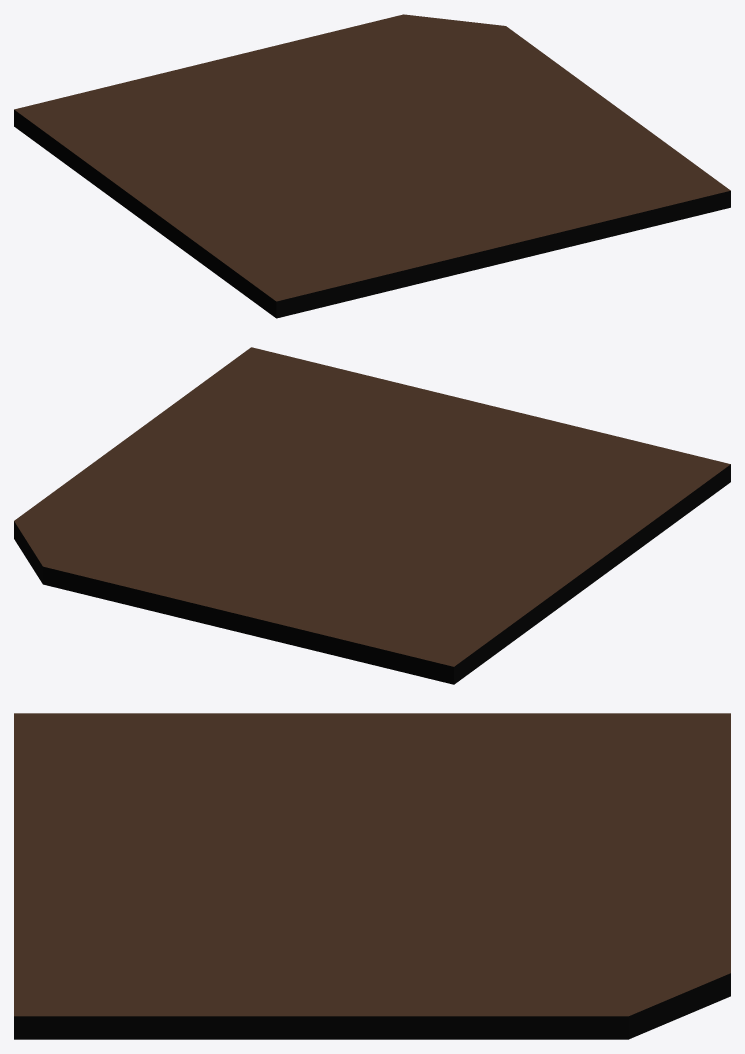
The model's file is Floor_Room_1.fbx.
3 views of the same model, one above another, from view 1: azimuth 30°, elevation 25°; view 2: azimuth 150°, elevation 25°; view 3: azimuth 270°, elevation 25° (orthographic). The views are drawn at different scales.
Parts seen in each view (by area): view 1: Floor_Room_1; view 2: Floor_Room_1; view 3: Floor_Room_1.
Part boxes in pixels (bbox=[...]): Floor_Room_1: bbox=[14, 14, 730, 318]; Floor_Room_1: bbox=[14, 347, 730, 684]; Floor_Room_1: bbox=[14, 713, 730, 1039].
Size of the model in its own units: 7 by 7 by 0.25.
